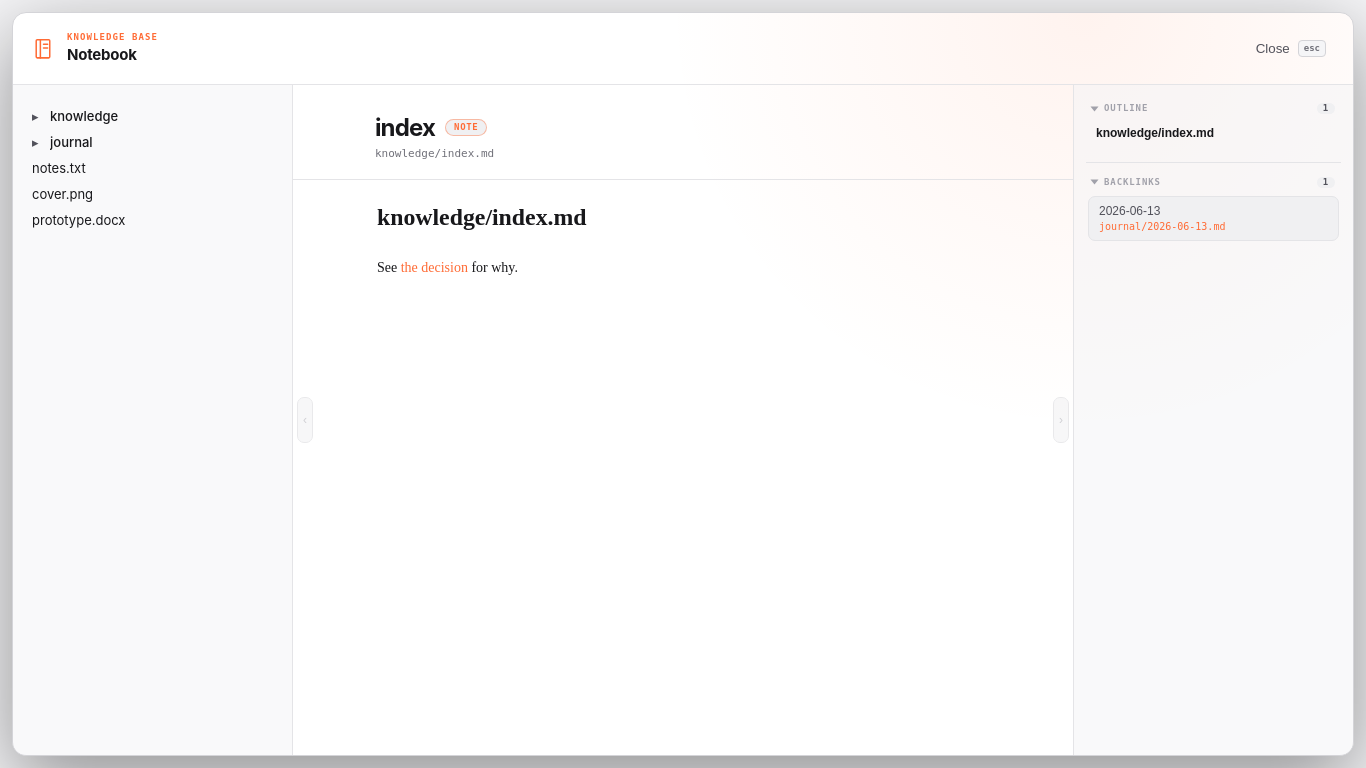
NotebookBrowser › renders the filesystem tree in the sidebar and opens a clicked text file in a plain editor
This screenshot has width=1366, height=768.
Expected: the list item "knowledge" is shown, left=23, top=103, right=282, bottom=129
Expected: the list item "journal" is shown, left=23, top=129, right=282, bottom=155
Click the list item "notes.txt". click: (152, 168)
box: left=23, top=155, right=282, bottom=181
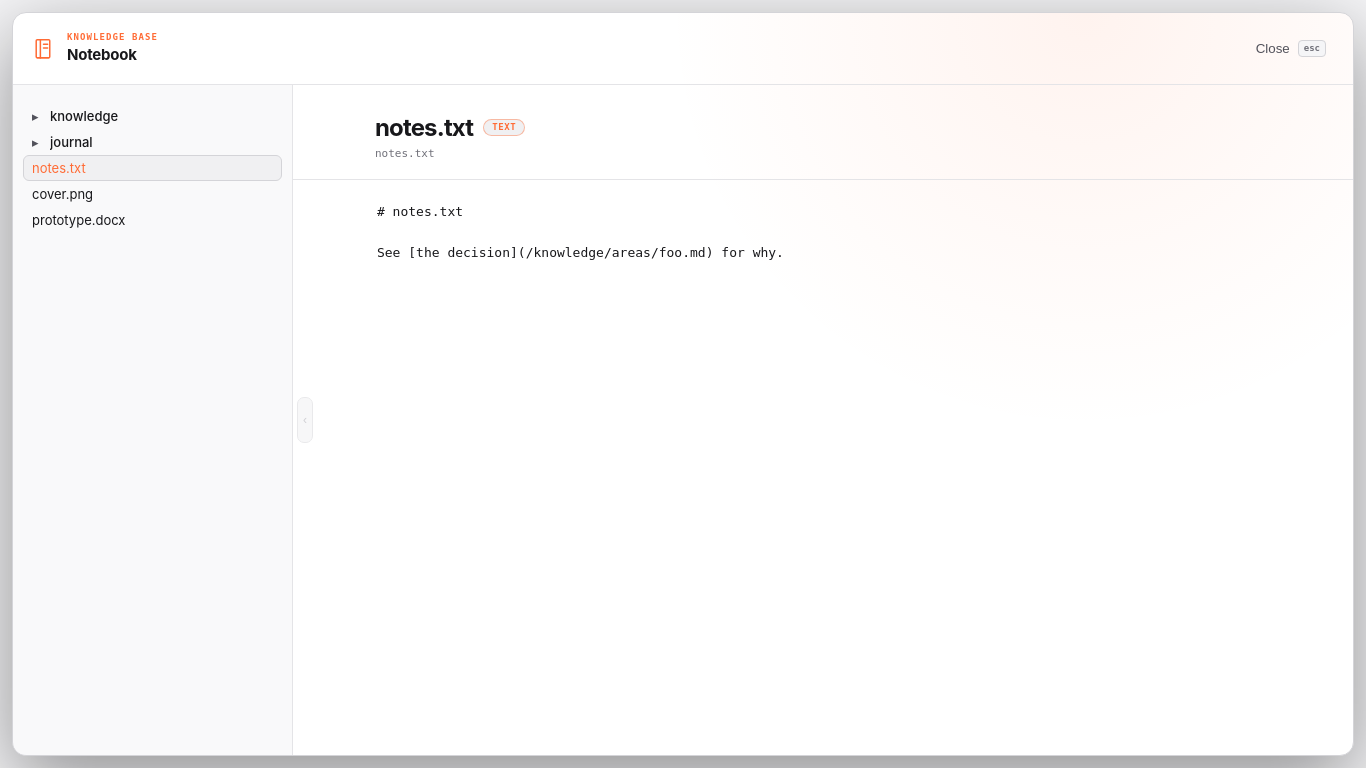
Expected: the heading "notes.txt" is shown, left=375, top=113, right=473, bottom=142
Expected: the button "Outline" is gone
Expected: the button "Backlinks" is gone
